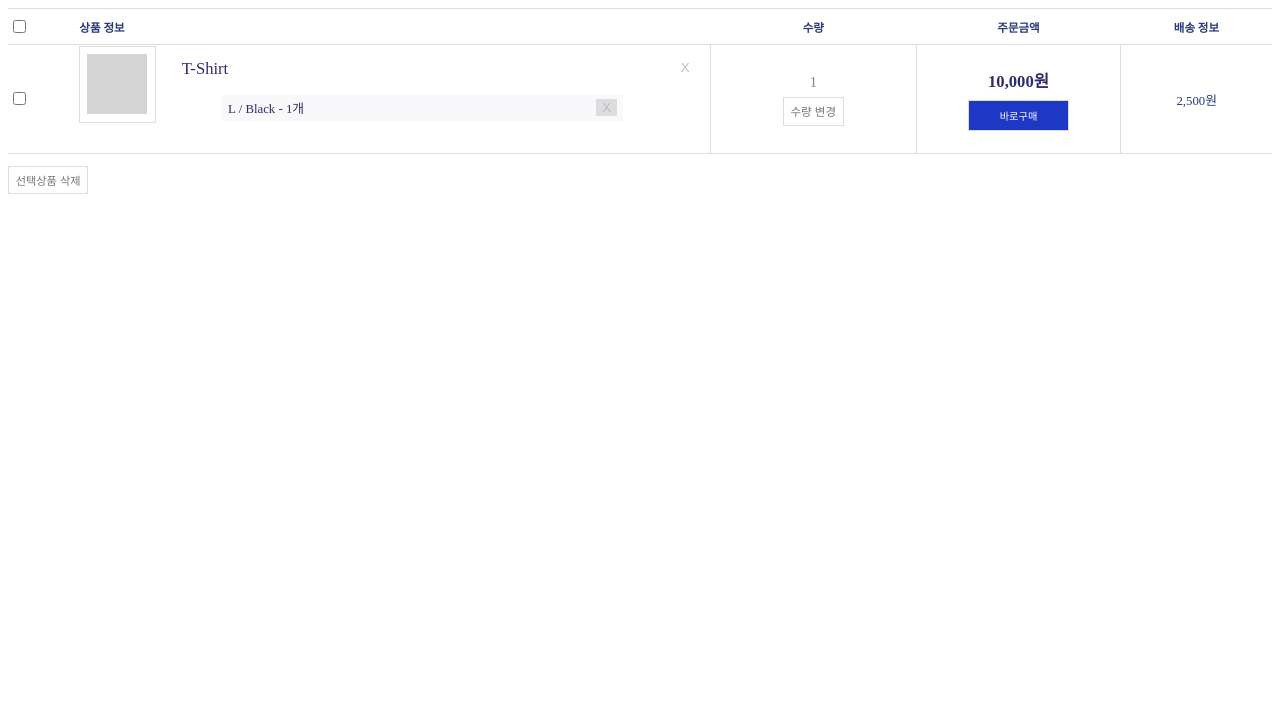
Test: CartItem › 수량 변경 버튼 › 수량 변경 › 아이템 수량을 증가시킬 경우 › 아이템의 수량과 금액이 증가된 것을 볼 수 있다
Expected: the text "1" is shown, [809, 73, 817, 91]
Expected: the text "10,000원" is shown, [988, 68, 1049, 92]
Click the button "수량 변경". click: coordinates (813, 111)
box: [783, 97, 844, 126]
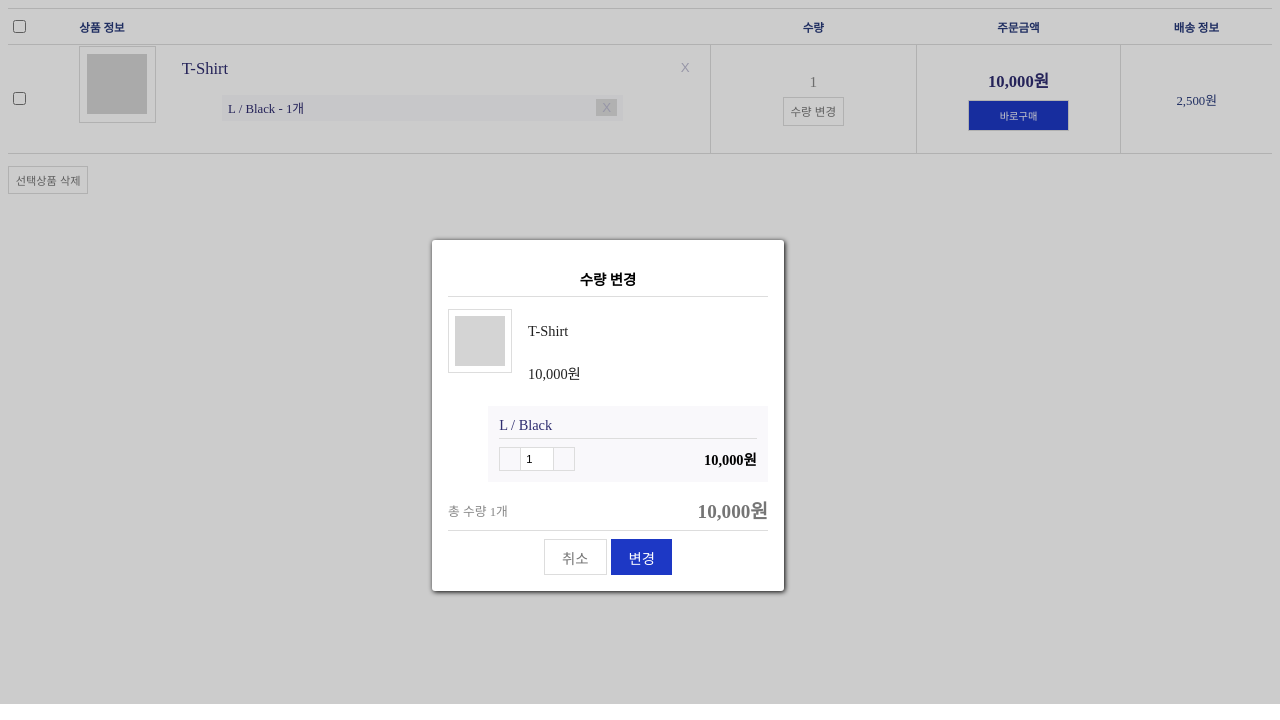
Click the button "+". click: coordinates (564, 458)
box: [554, 448, 574, 468]
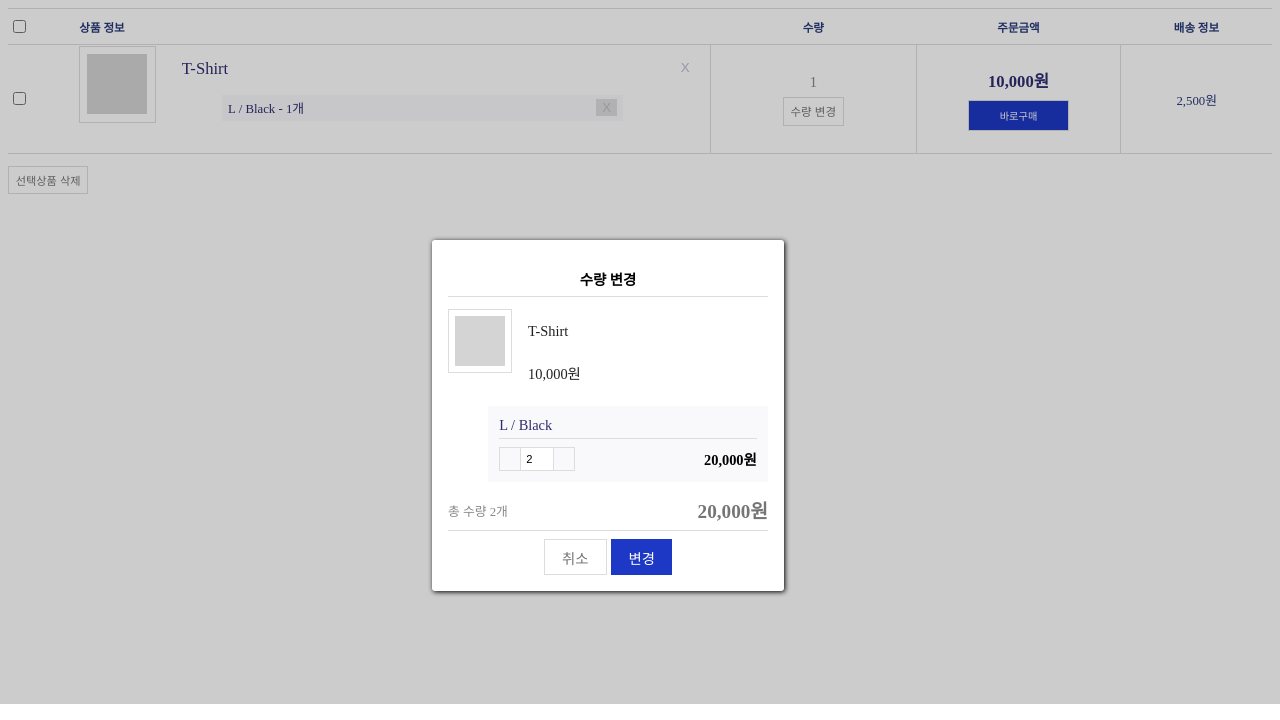
Click the button "변경". click: coordinates (642, 557)
box: [611, 539, 672, 575]
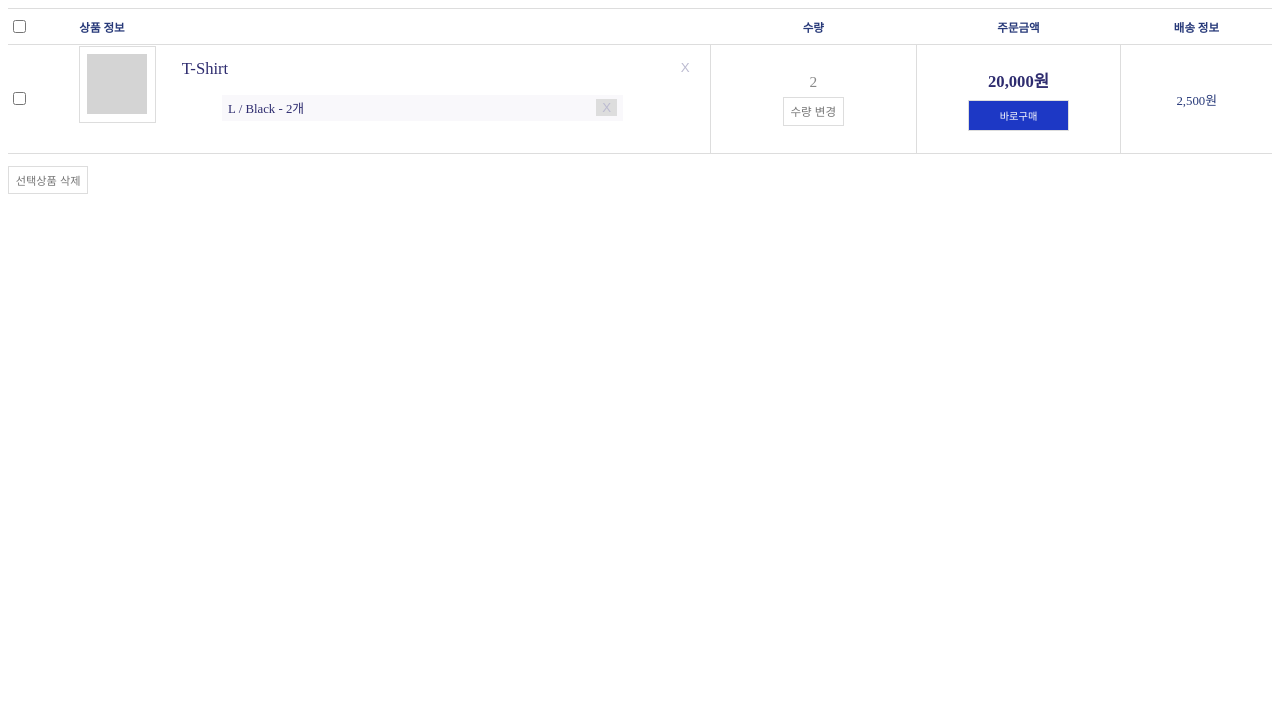
Expected: the text "2" is shown, [809, 73, 817, 91]
Expected: the text "20,000원" is shown, [988, 68, 1049, 92]
